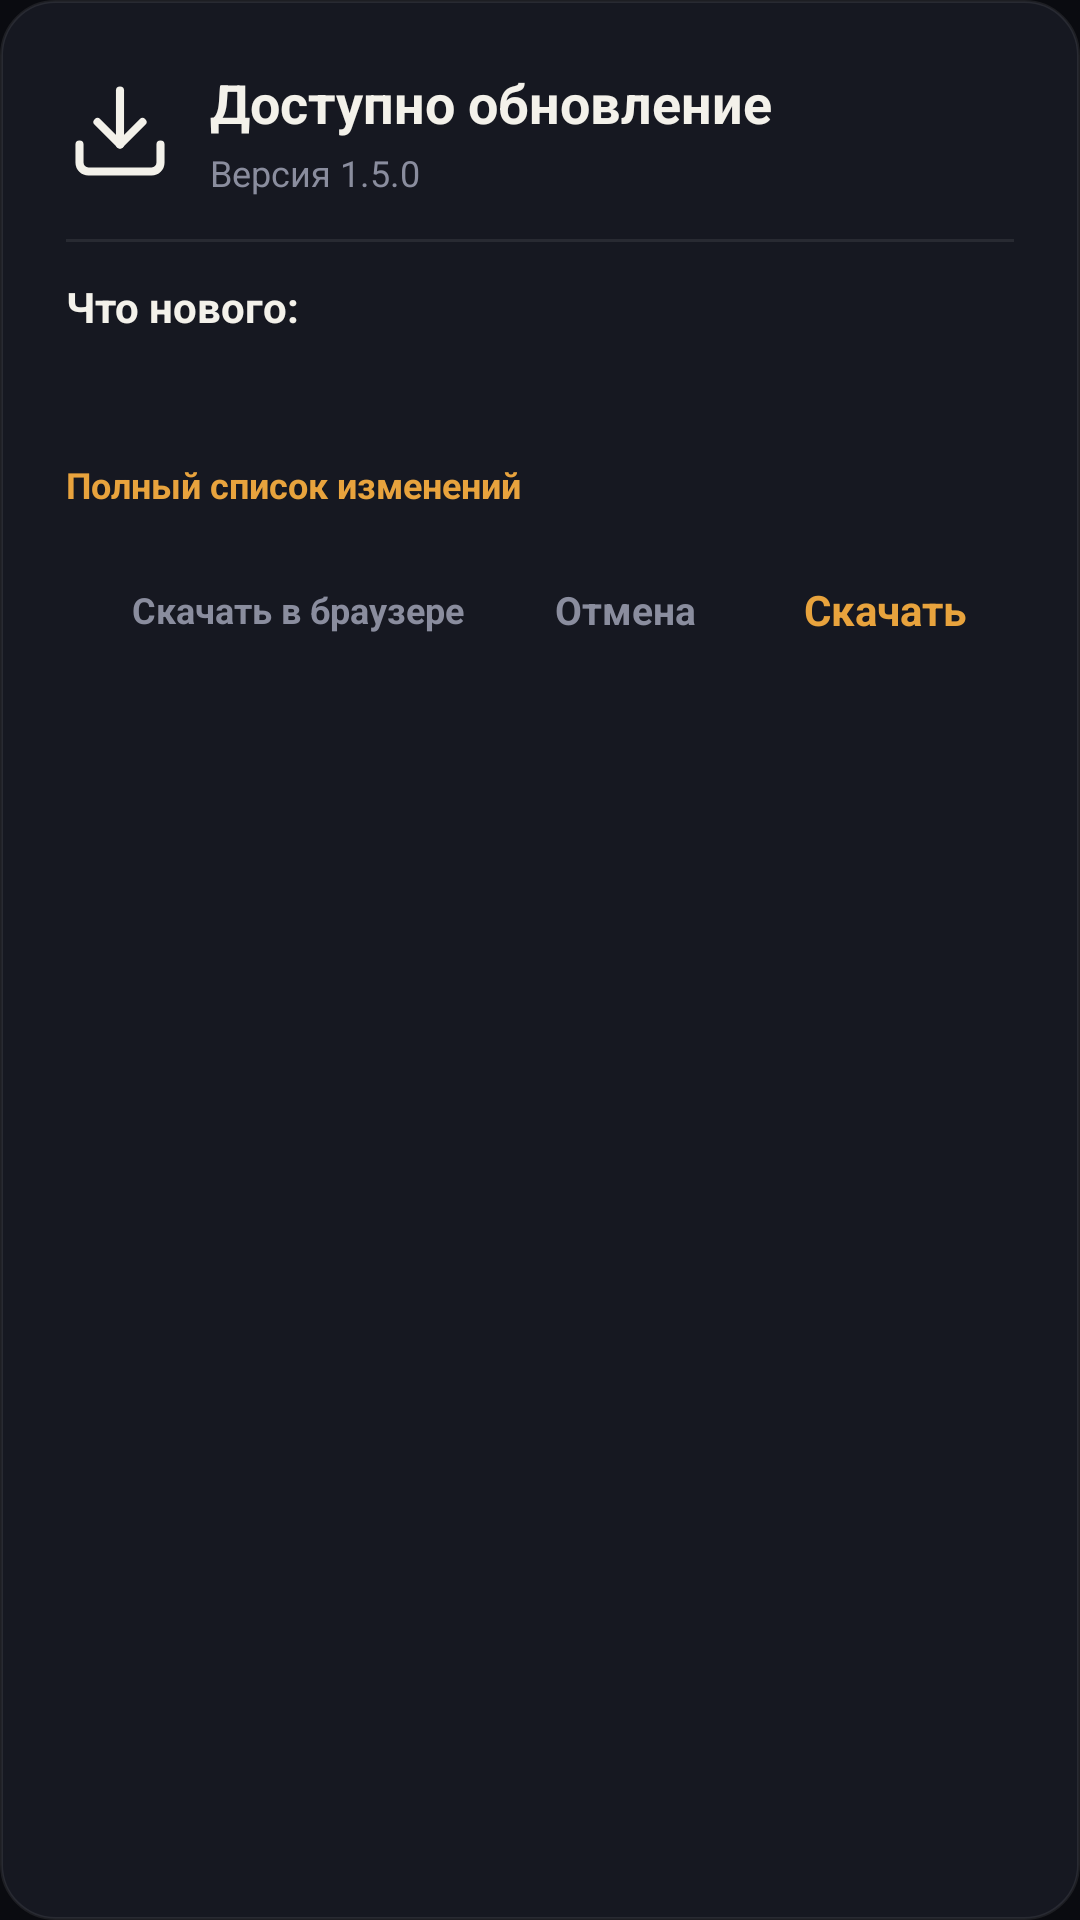

Screen size 1080px×1920px. Icon name, then its center in pixels as point (x, y):
download: point (120, 131)
